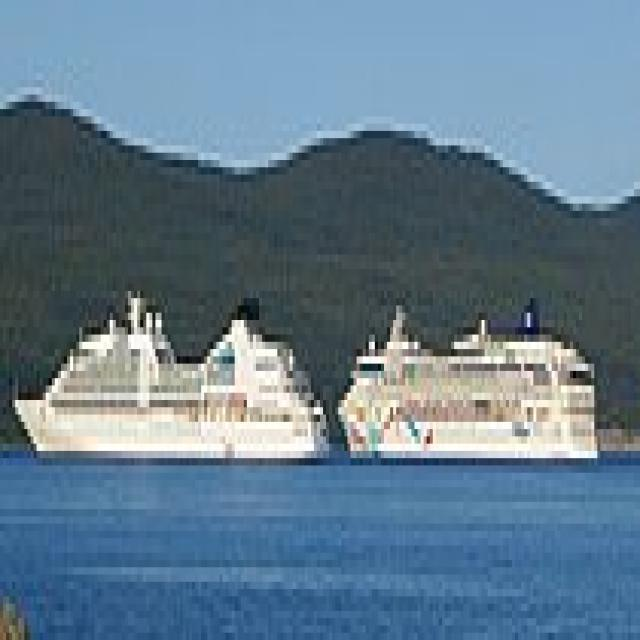Ship: (7, 263, 339, 474), (334, 285, 605, 489)
